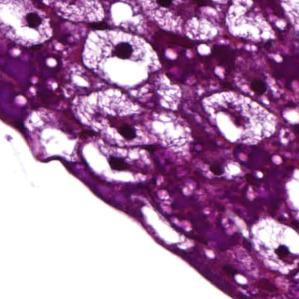ballooning: (68, 85, 194, 148), (79, 25, 164, 92), (200, 89, 280, 146), (130, 0, 230, 44), (80, 135, 154, 185), (248, 215, 299, 278)
